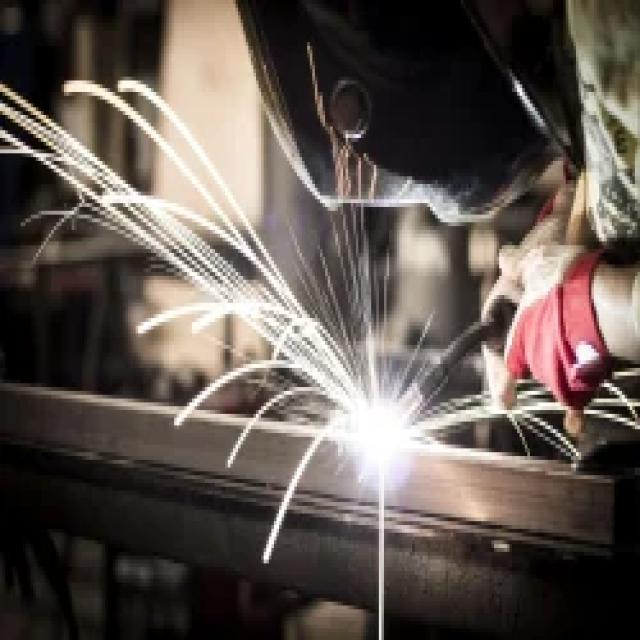welding: (345, 399, 403, 447)
